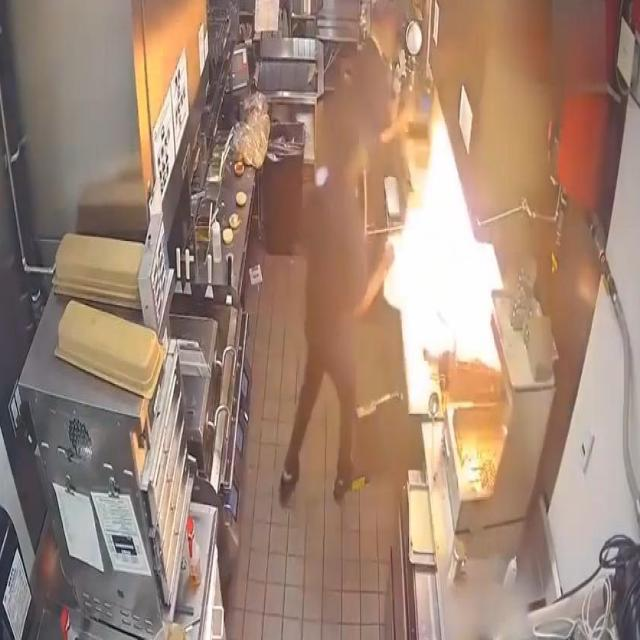smoke: (380, 127, 510, 410)
